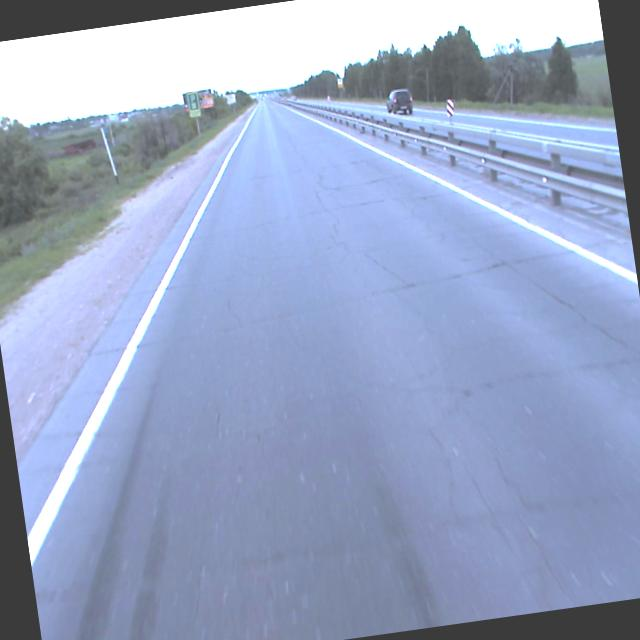road: (18, 97, 640, 640)
